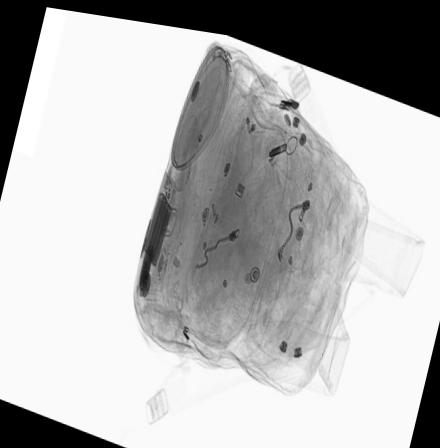Powerbank: (140, 166, 178, 266)
